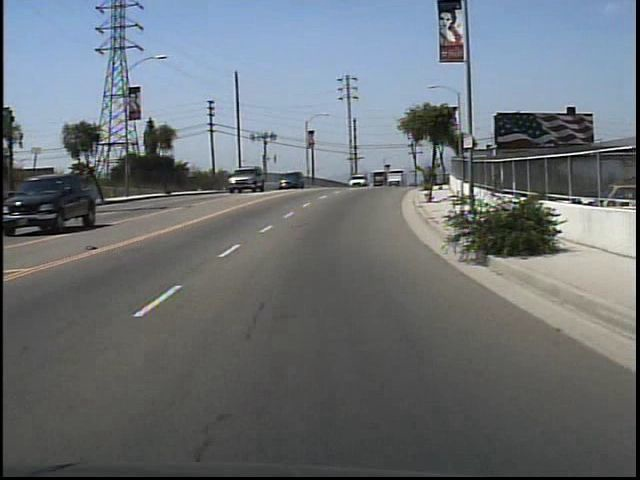person: (433, 162, 447, 192)
